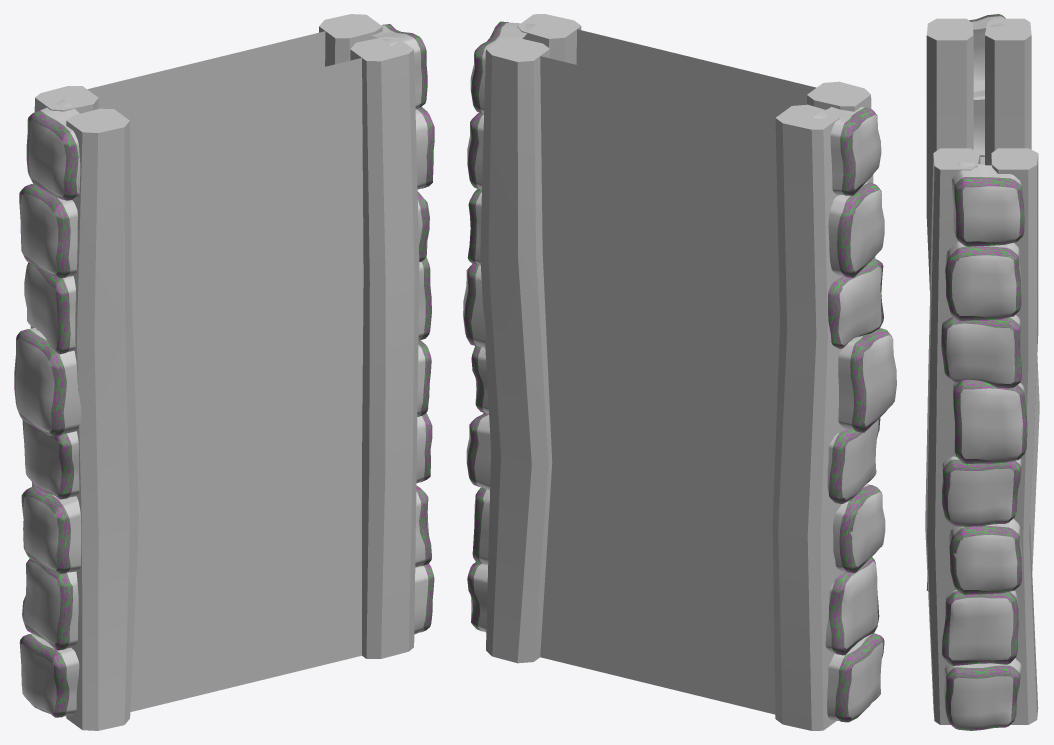
File: SM_barnWallA_1m_a1.fbx
3 renders of one model, left to right at view 1: azimuth 30°, elevation 25°; view 2: azimuth 150°, elevation 25°; view 3: azimuth 270°, elevation 25°, orthographic. The views are drawn at different scales.
Parts seen in each view (by area): view 1: SM_barnWallA_1m_a1_LOD0; view 2: SM_barnWallA_1m_a1_LOD0; view 3: SM_barnWallA_1m_a1_LOD0.
Part boxes in pixels (x1,y1,x2,y2): SM_barnWallA_1m_a1_LOD0: [14, 14, 434, 730]; SM_barnWallA_1m_a1_LOD0: [463, 14, 896, 730]; SM_barnWallA_1m_a1_LOD0: [925, 14, 1039, 730].
Bounding box in the file's own units: 138 × 37.37 × 200.
3 materials, 1 textured.
